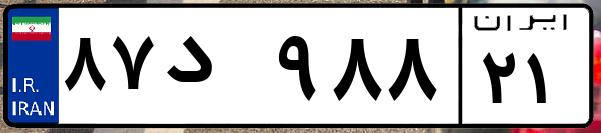1: (525, 38, 570, 115)
2: (475, 38, 525, 113)
7: (110, 28, 158, 98)
8: (385, 28, 445, 110), (330, 28, 385, 110), (57, 26, 110, 100)
9: (270, 28, 330, 110)
د: (158, 20, 270, 120)
